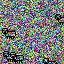sheep: (2, 28, 16, 39), (10, 52, 24, 63), (3, 52, 17, 63), (55, 14, 64, 25), (43, 58, 58, 64)
